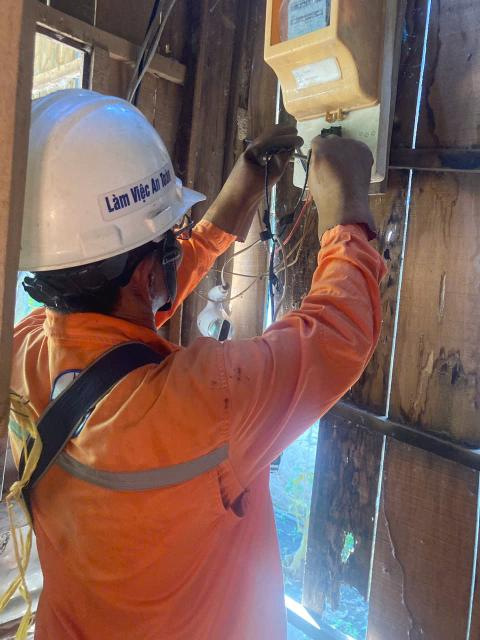gloves: (288, 105, 418, 238), (203, 100, 313, 250)
helmet: (7, 67, 196, 284)
